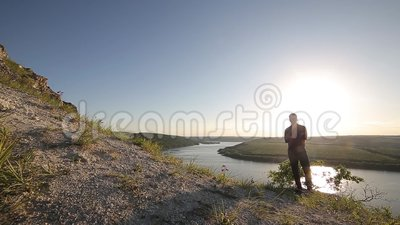person: (283, 113, 312, 191)
